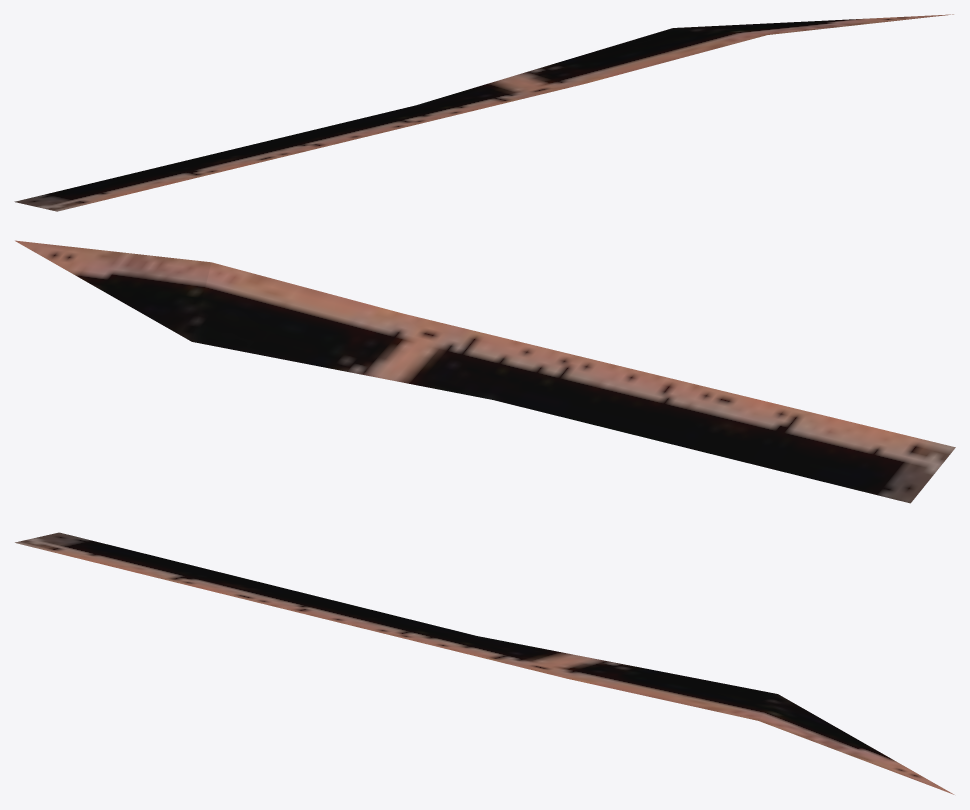
3 views of the same model, one above another, from view 1: azimuth 30°, elevation 25°; view 2: azimuth 150°, elevation 25°; view 3: azimuth 330°, elevation 25° (orthographic). The views are drawn at different scales.
Bounding box in the file's own units: 0.807 × 0.0216 × 0.0882.
Materials: 1 (1 with a texture image).
